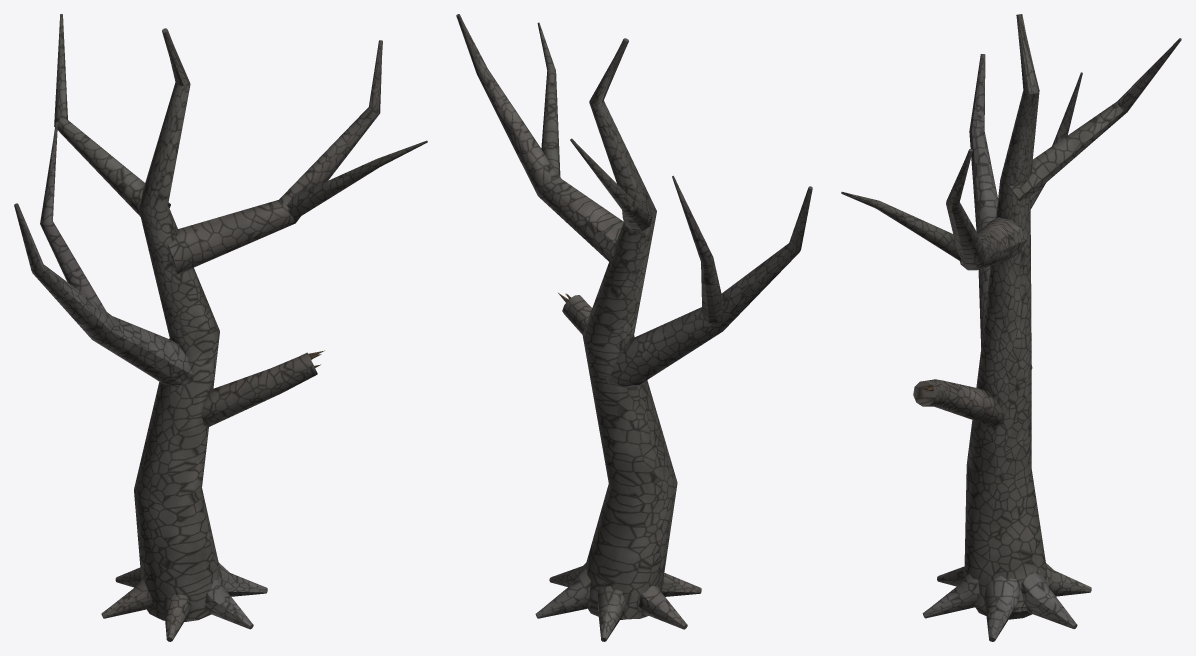
The model's file is dead_tree.glb.
3 renders of one model, left to right at view 1: azimuth 30°, elevation 25°; view 2: azimuth 150°, elevation 25°; view 3: azimuth 270°, elevation 25°, orthographic.
Parts seen in each view (by area): view 1: dead_tree; view 2: dead_tree; view 3: dead_tree.
Boxes of the visible parts, left/top/right/bottom form: dead_tree: left=14, top=14, right=427, bottom=641; dead_tree: left=456, top=14, right=812, bottom=641; dead_tree: left=841, top=14, right=1181, bottom=641.
Size of the model in its own units: 2.11 by 3.21 by 1.69.
Materials: 1 (1 with a texture image).
